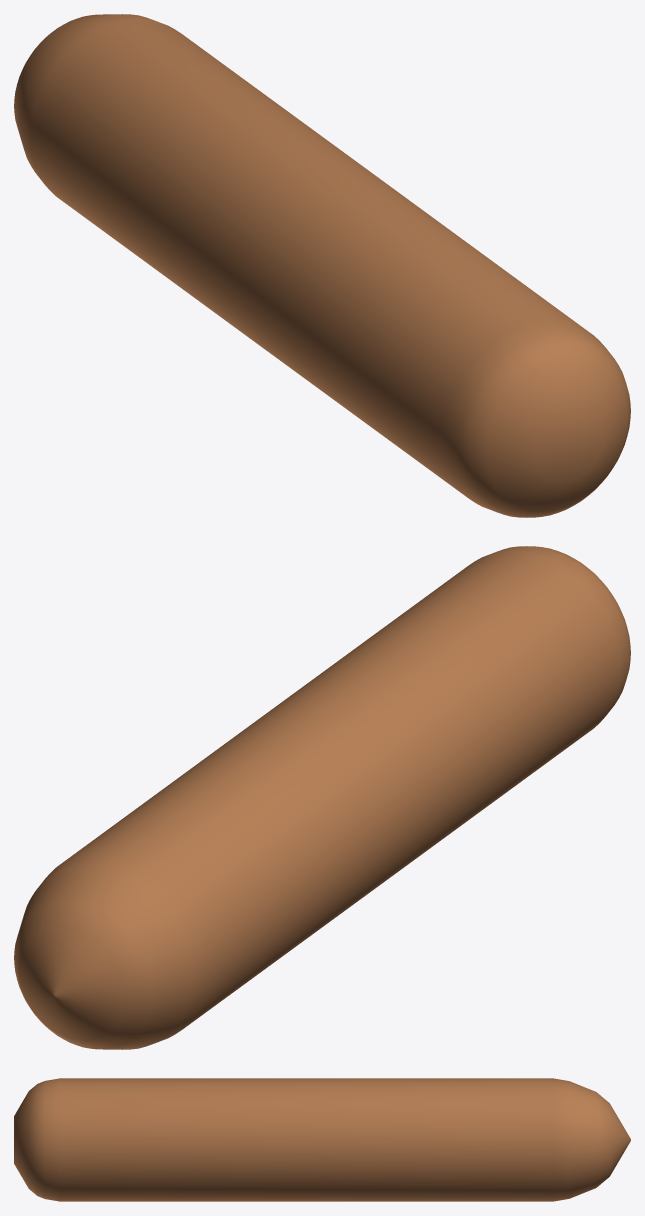
Rendered from sausageraw.fbx.
3 renders of one model, top to bottom at view 1: azimuth 30°, elevation 25°; view 2: azimuth 150°, elevation 25°; view 3: azimuth 270°, elevation 25°, orthographic. The views are drawn at different scales.
Visible parts, largest first — view 1: Cylinder; view 2: Cylinder; view 3: Cylinder.
Part boxes in pixels (x1,y1,x2,y2): Cylinder: (14,14,630,517); Cylinder: (14,546,630,1049); Cylinder: (14,1078,630,1201).
Size of the model in its own units: 200 by 200 by 998.
